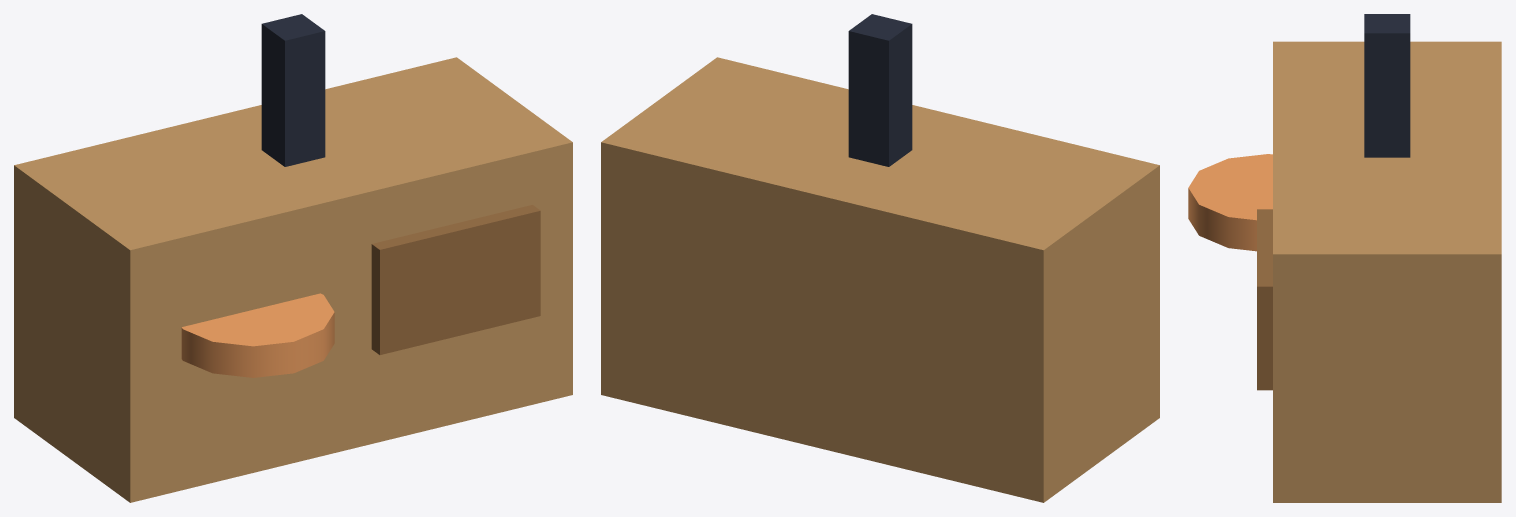
Rendered from radio.glb.
3 views of the same model, side by side, from view 1: azimuth 30°, elevation 25°; view 2: azimuth 150°, elevation 25°; view 3: azimuth 270°, elevation 25° (orthographic).
Parts seen in each view (by area): view 1: radio; view 2: radio; view 3: radio.
Boxes of the visible parts, box(x1,y1,x2,y2) form: radio: box(14, 14, 572, 502); radio: box(601, 14, 1159, 502); radio: box(1188, 14, 1501, 502).
Bounding box in the file's own units: 22 × 18 × 13.7.
